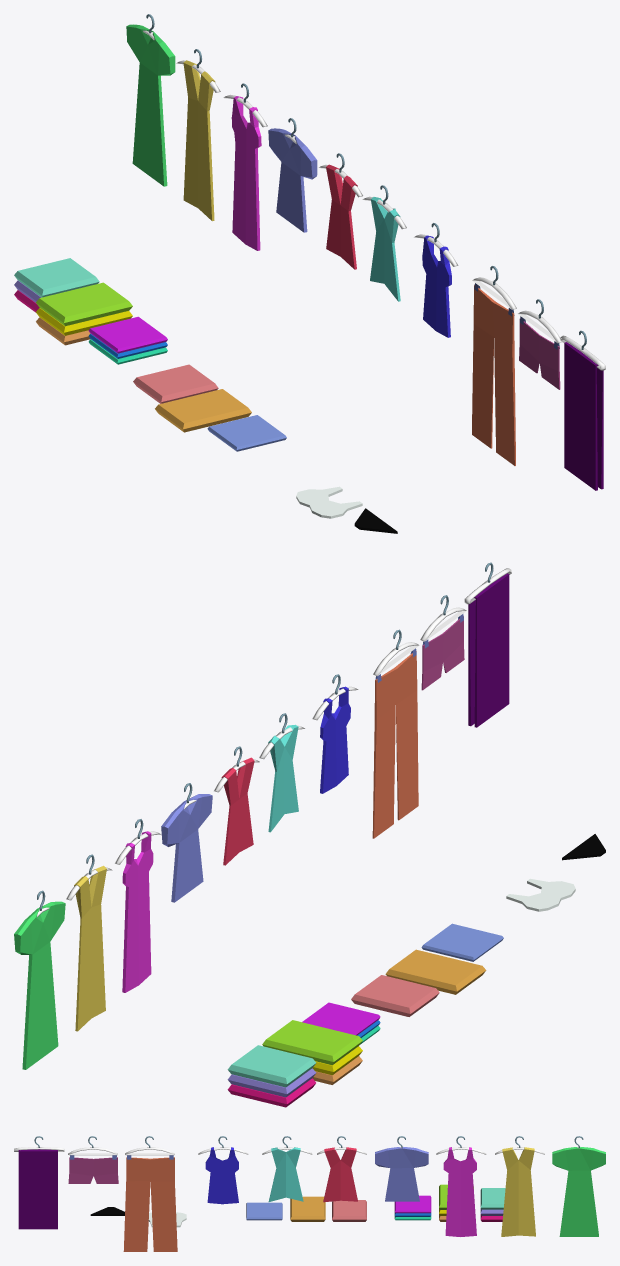
The model's file is cloths_for_closet.fbx.
3 views of the same model, one above another, from view 1: azimuth 30°, elevation 25°; view 2: azimuth 150°, elevation 25°; view 3: azimuth 270°, elevation 25° (orthographic). The views are drawn at different scales.
Visible parts, largest first — view 1: Cube.014, Cube.002, Cube.007, Cube.010, Cylinder.002, Cube.006, Cube.028, Cube.017, Cylinder.001, Cube.008, Cube.012, Cube.026 (+6 smaller); view 2: Cube.014, Cube.002, Cube.007, Cube.010, Cylinder.002, Cube.006, Cube.017, Cube.028, Cylinder.001, Cube.026, Cube.018, Cube.008 (+7 smaller); view 3: Cube.014, Cube.002, Cube.007, Cube.010, Cylinder.002, Cube.006, Cylinder.001, Cube.008, Cube.012, Cube.005, Cube.017, Cube.018 (+9 smaller).
Part boxes in pixels (<box>): Cube.014: <box>472,285,515,465</box>; Cube.002: <box>564,342,603,490</box>; Cube.007: <box>126,24,175,186</box>; Cube.010: <box>183,60,215,221</box>; Cylinder.002: <box>231,96,261,250</box>; Cube.006: <box>268,128,317,232</box>; Cube.028: <box>36,282,132,326</box>; Cube.017: <box>155,389,251,432</box>; Cylinder.001: <box>422,235,451,337</box>; Cube.008: <box>326,164,357,269</box>; Cube.012: <box>370,197,400,301</box>; Cube.026: <box>14,258,99,297</box>; Cube.014: <box>372,651,418,838</box>; Cube.002: <box>468,573,509,727</box>; Cube.007: <box>14,901,65,1069</box>; Cube.010: <box>74,865,106,1031</box>; Cylinder.002: <box>122,831,153,992</box>; Cube.006: <box>161,794,212,902</box>; Cube.017: <box>385,949,486,994</box>; Cube.028: <box>262,1020,362,1065</box>; Cylinder.001: <box>320,686,350,793</box>; Cube.026: <box>227,1045,316,1087</box>; Cube.018: <box>351,975,439,1016</box>; Cube.008: <box>221,757,254,865</box>; Cube.014: <box>123,1157,177,1251</box>; Cube.002: <box>18,1149,57,1229</box>; Cube.007: <box>552,1147,605,1236</box>; Cube.010: <box>501,1147,535,1236</box>; Cylinder.002: <box>443,1147,476,1236</box>; Cube.006: <box>375,1147,428,1201</box>; Cylinder.001: <box>205,1147,238,1204</box>; Cube.008: <box>323,1147,357,1202</box>; Cube.012: <box>268,1147,303,1201</box>; Cube.005: <box>68,1157,118,1183</box>; Cube.017: <box>290,1196,325,1221</box>; Cube.018: <box>332,1200,366,1221</box>.
Bounding box in the file's own units: 530 × 521 × 2139.
